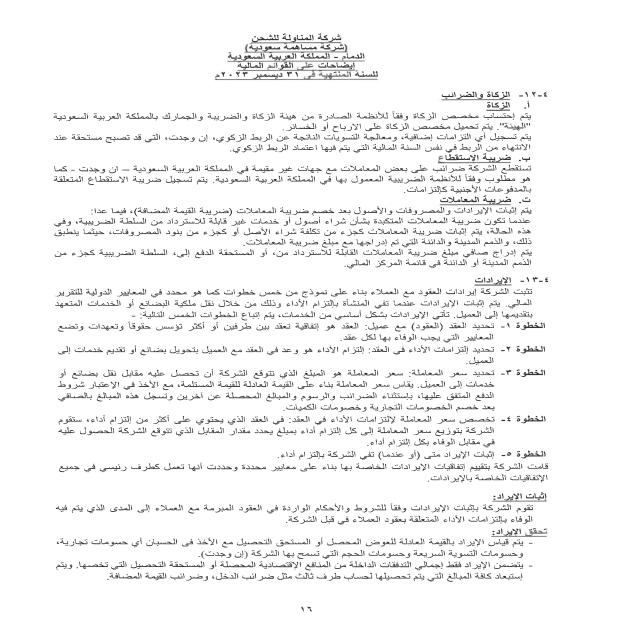notes: (231, 63, 360, 71)
text: (39, 93, 569, 589)
